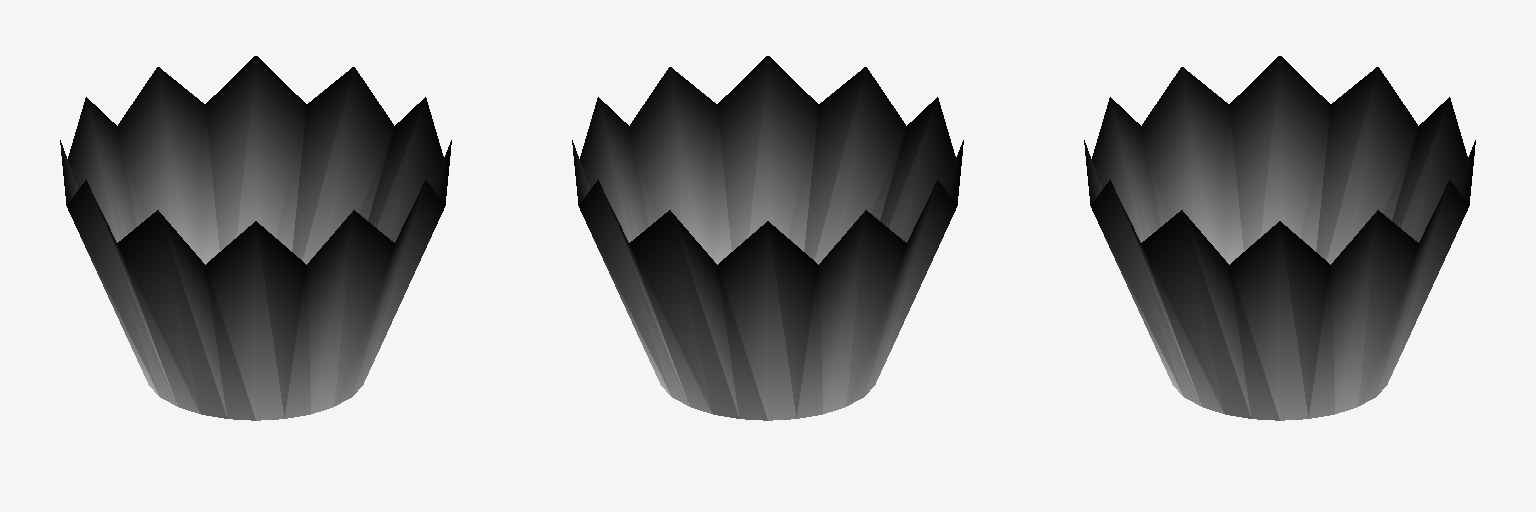
The picture shows the model from 3 angles: view 1: azimuth 30°, elevation 25°; view 2: azimuth 150°, elevation 25°; view 3: azimuth 270°, elevation 25°; orthographic projection.
Parts seen in each view (by area): view 1: Sphere.001; view 2: Sphere.001; view 3: Sphere.001.
Boxes of the visible parts, box(x1,y1,x2,y2) form: Sphere.001: box(60, 56, 451, 420); Sphere.001: box(572, 56, 963, 420); Sphere.001: box(1084, 56, 1475, 420).
Bounding box in the file's own units: 2.35 × 1.56 × 2.35.
1 materials, 1 textured.